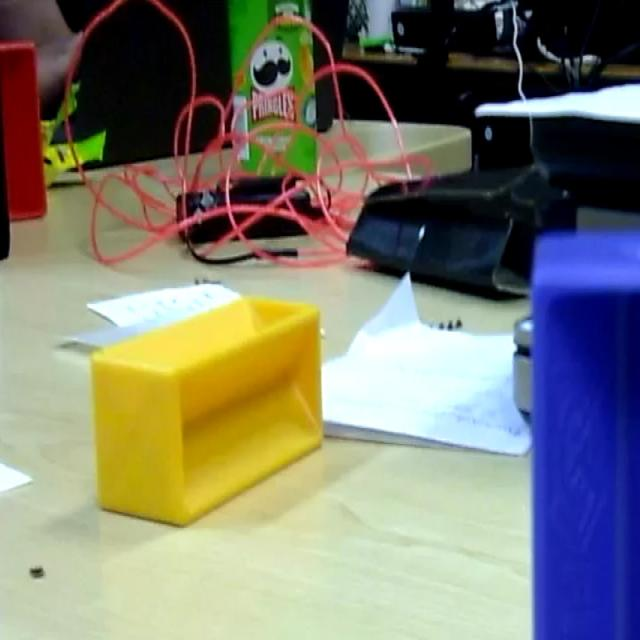blue_block: (529, 227, 638, 636)
red_block: (0, 37, 47, 221)
yellow_block: (89, 292, 324, 527)
